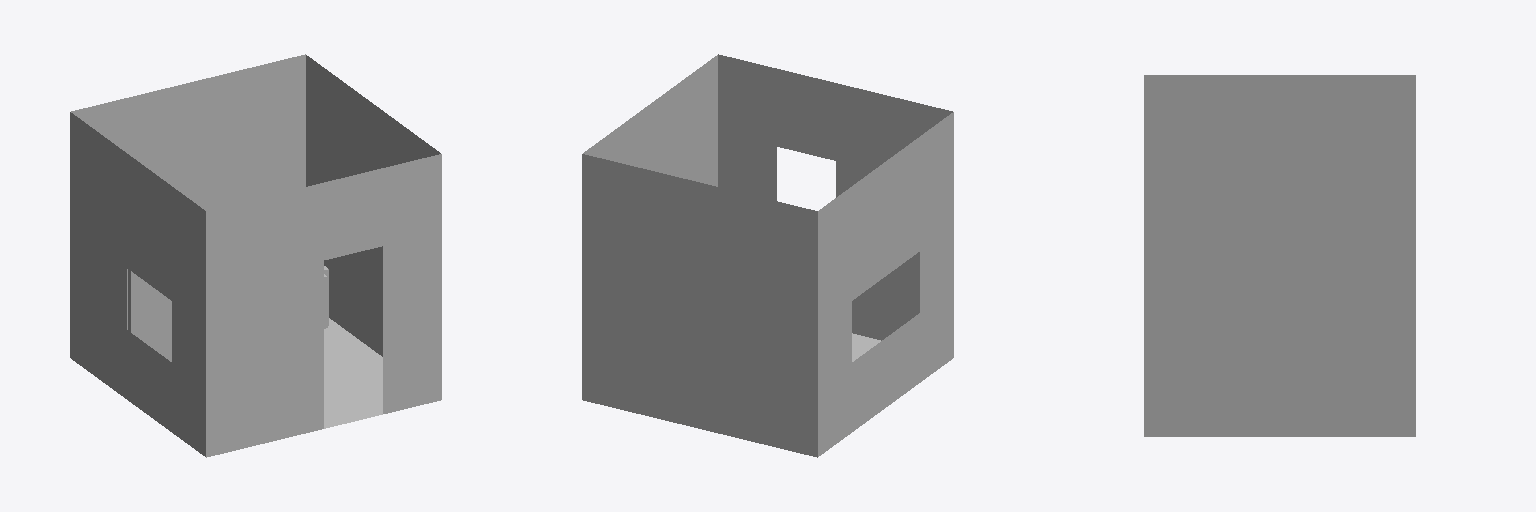
The model's file is kitchenroom2.obj.
3 renders of one model, left to right at view 1: azimuth 30°, elevation 25°; view 2: azimuth 150°, elevation 25°; view 3: azimuth 270°, elevation 25°, orthographic.
Parts seen in each view (by area): view 1: Cube; view 2: Cube; view 3: Cube.
Part boxes in pixels (x1,y1,x2,y2): Cube: (70,54,441,457); Cube: (582,54,953,457); Cube: (1144,75,1415,436).
Size of the model in its own units: 8.69 by 8.69 by 8.69.